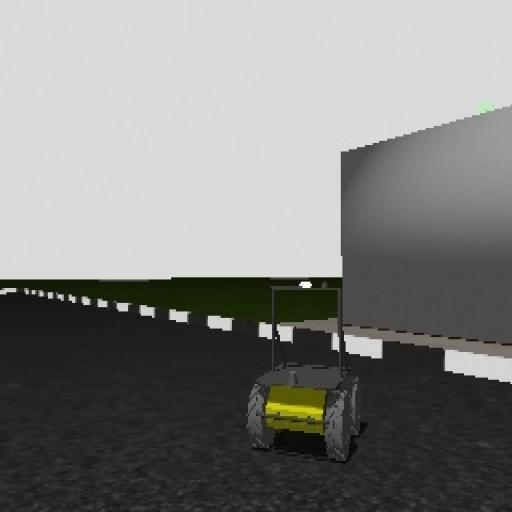huskya200: (239, 277, 372, 479)
